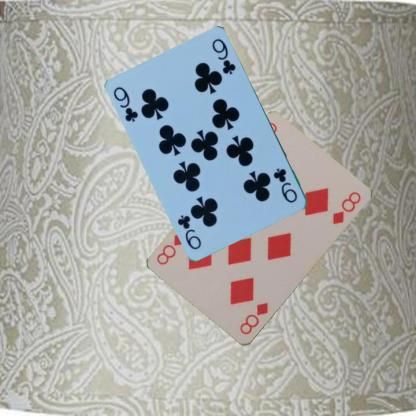8d: (237, 300, 270, 336)
9c: (111, 84, 140, 124), (271, 166, 299, 204)
